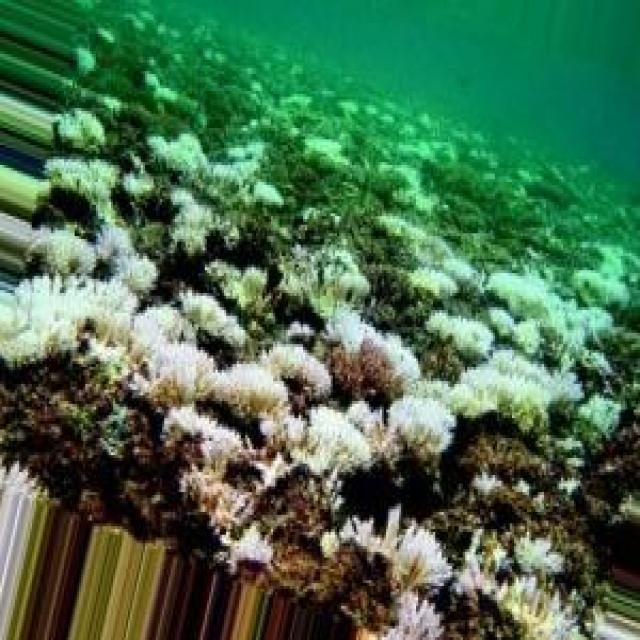bleached coral: (280, 245, 420, 382), (132, 308, 285, 419), (444, 528, 579, 638), (0, 278, 138, 364), (489, 275, 611, 368), (449, 348, 579, 431), (26, 225, 158, 296), (339, 505, 451, 588), (376, 215, 478, 286), (148, 133, 261, 184), (291, 405, 371, 474), (165, 405, 242, 463), (571, 245, 640, 308), (46, 158, 117, 219), (389, 398, 455, 458), (260, 343, 331, 398), (181, 296, 246, 348), (346, 400, 400, 462), (171, 188, 215, 256), (122, 152, 155, 199), (58, 112, 102, 146), (252, 452, 292, 488), (408, 272, 458, 299), (411, 377, 450, 408)
